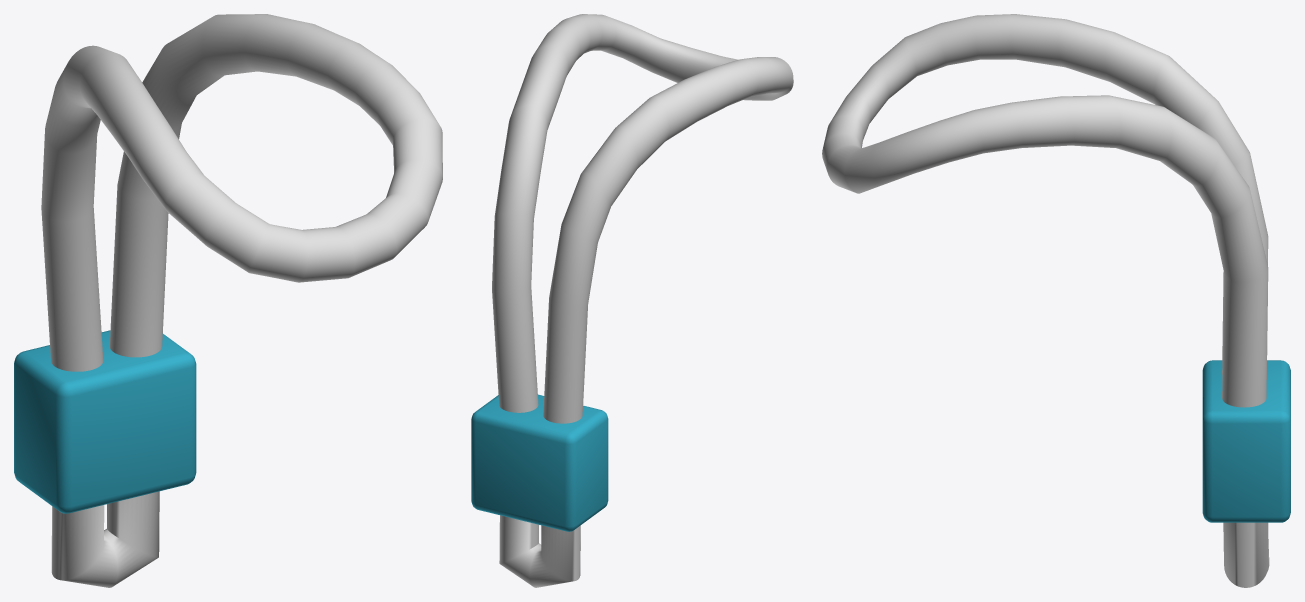
File: BaendelF1D2.fbx
3 renders of one model, left to right at view 1: azimuth 30°, elevation 25°; view 2: azimuth 150°, elevation 25°; view 3: azimuth 270°, elevation 25°, orthographic. The views are drawn at different scales.
Visible parts, largest first — view 1: Bändel_F2, Cube; view 2: Bändel_F2, Cube; view 3: Bändel_F2, Cube.
Boxes of the visible parts, left/top/right/bottom form: Bändel_F2: left=41, top=14, right=442, bottom=587; Cube: left=14, top=330, right=196, bottom=513; Bändel_F2: left=492, top=14, right=793, bottom=587; Cube: left=471, top=394, right=608, bottom=531; Bändel_F2: left=822, top=14, right=1269, bottom=587; Cube: left=1202, top=360, right=1290, bottom=522.
Bounding box in the file's own units: 3.25 × 6.85 × 5.54.
